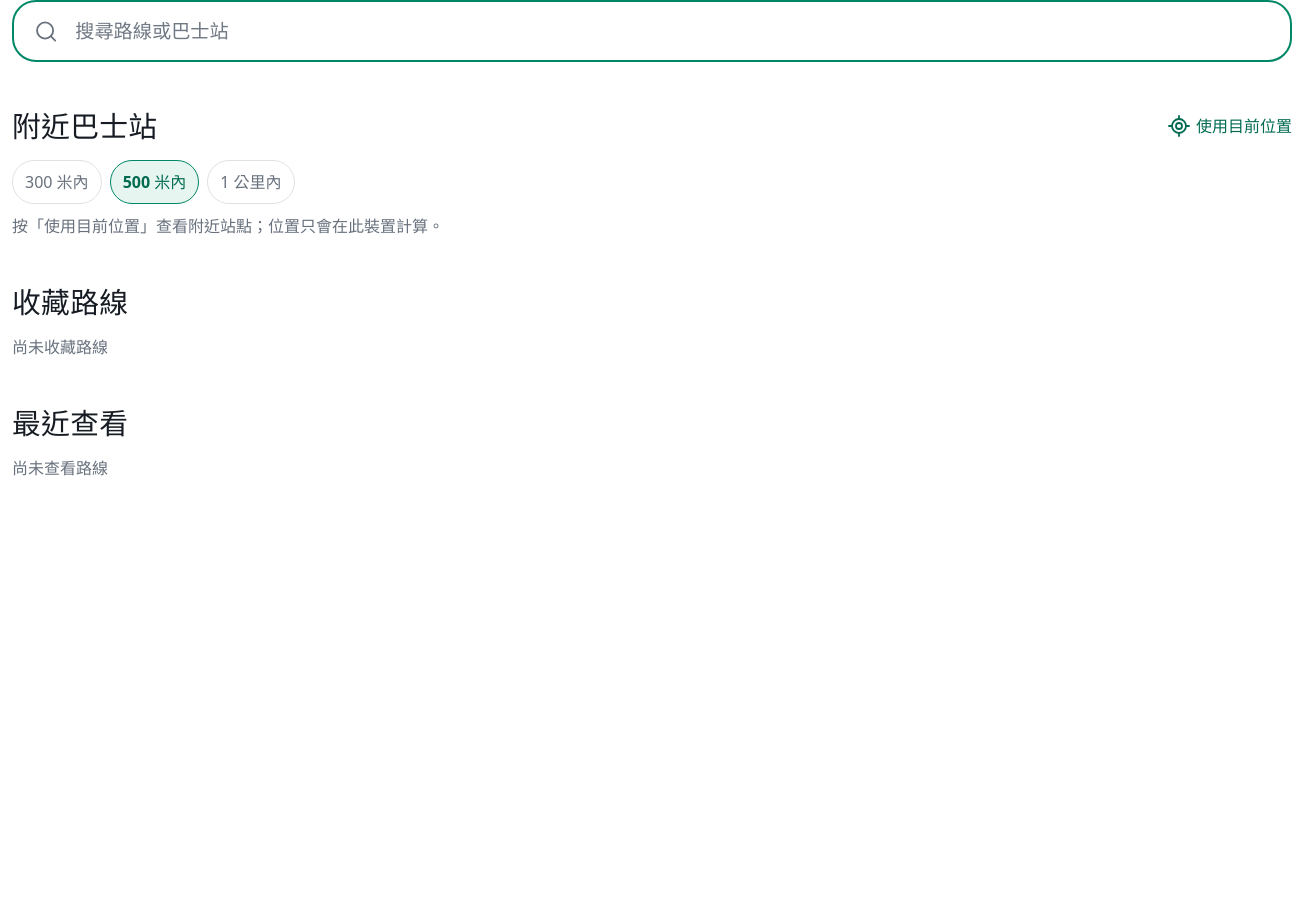
Test: HomePage › uses the latest radius when location resolves after a radius change
Click the button "使用目前位置": click(1230, 126) [1167,104,1292,148]
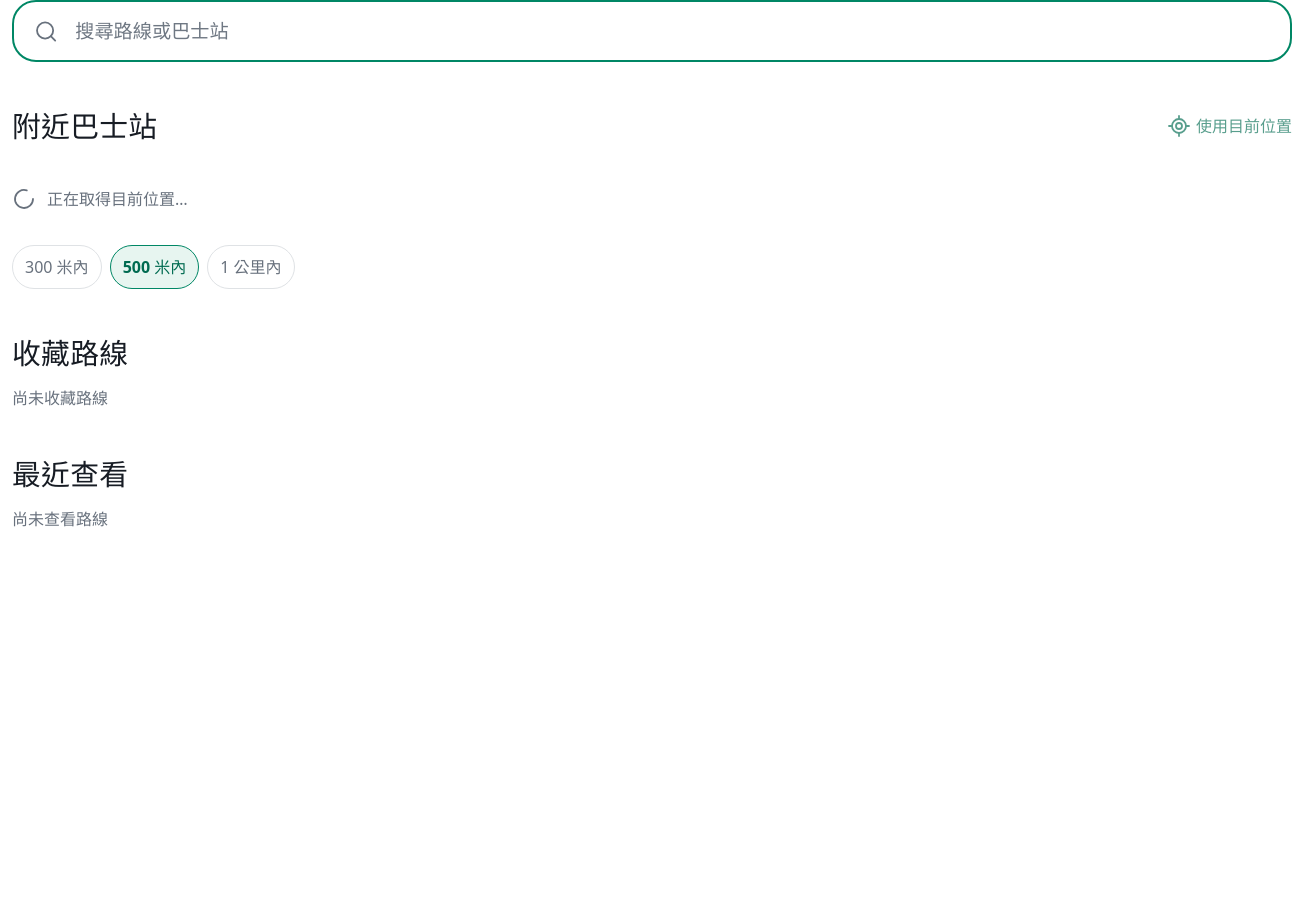
Click the button "300 米": click(57, 267) [12,245,102,289]
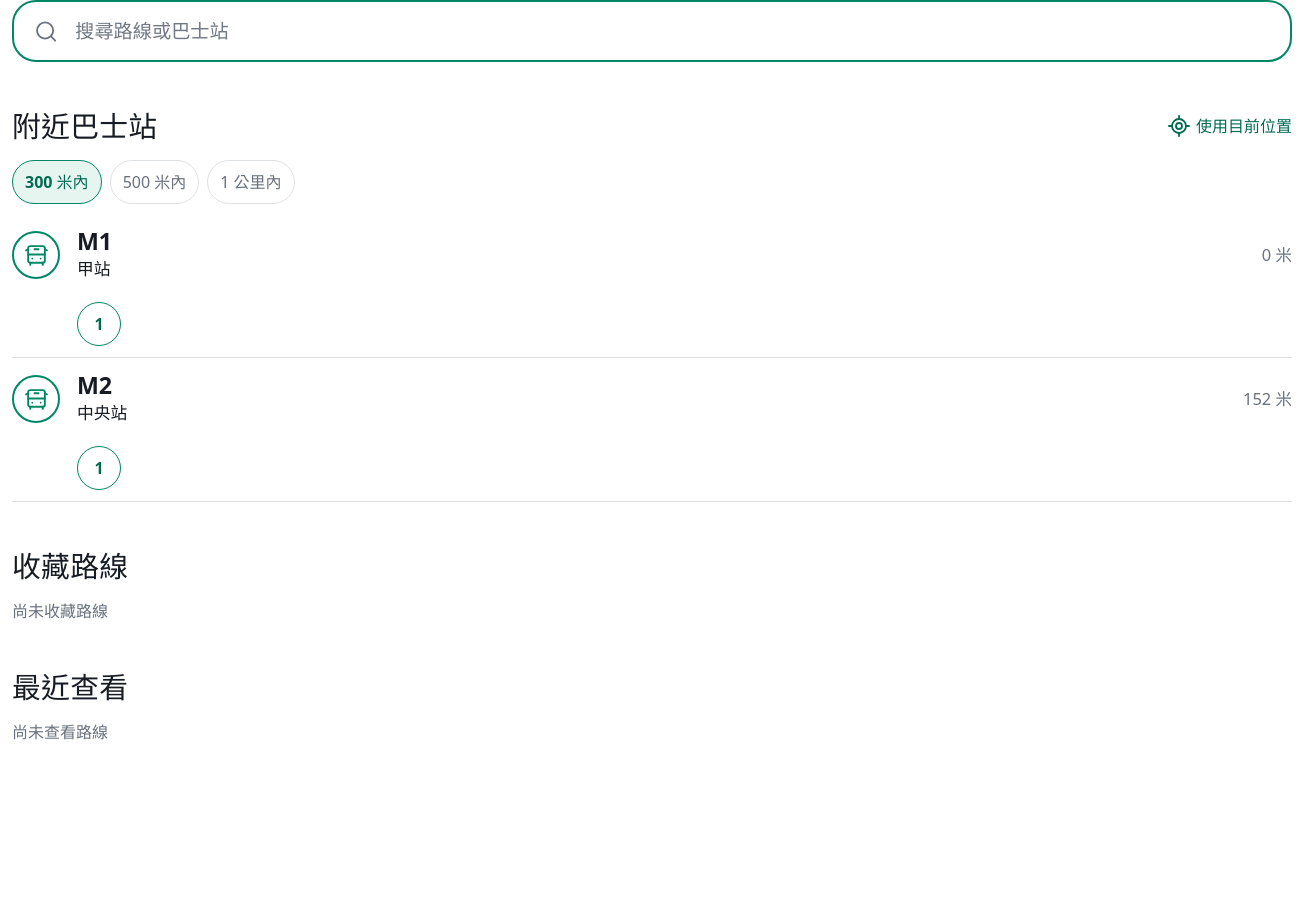
Now the text "中央站" is shown, box [77,401,127,424]
